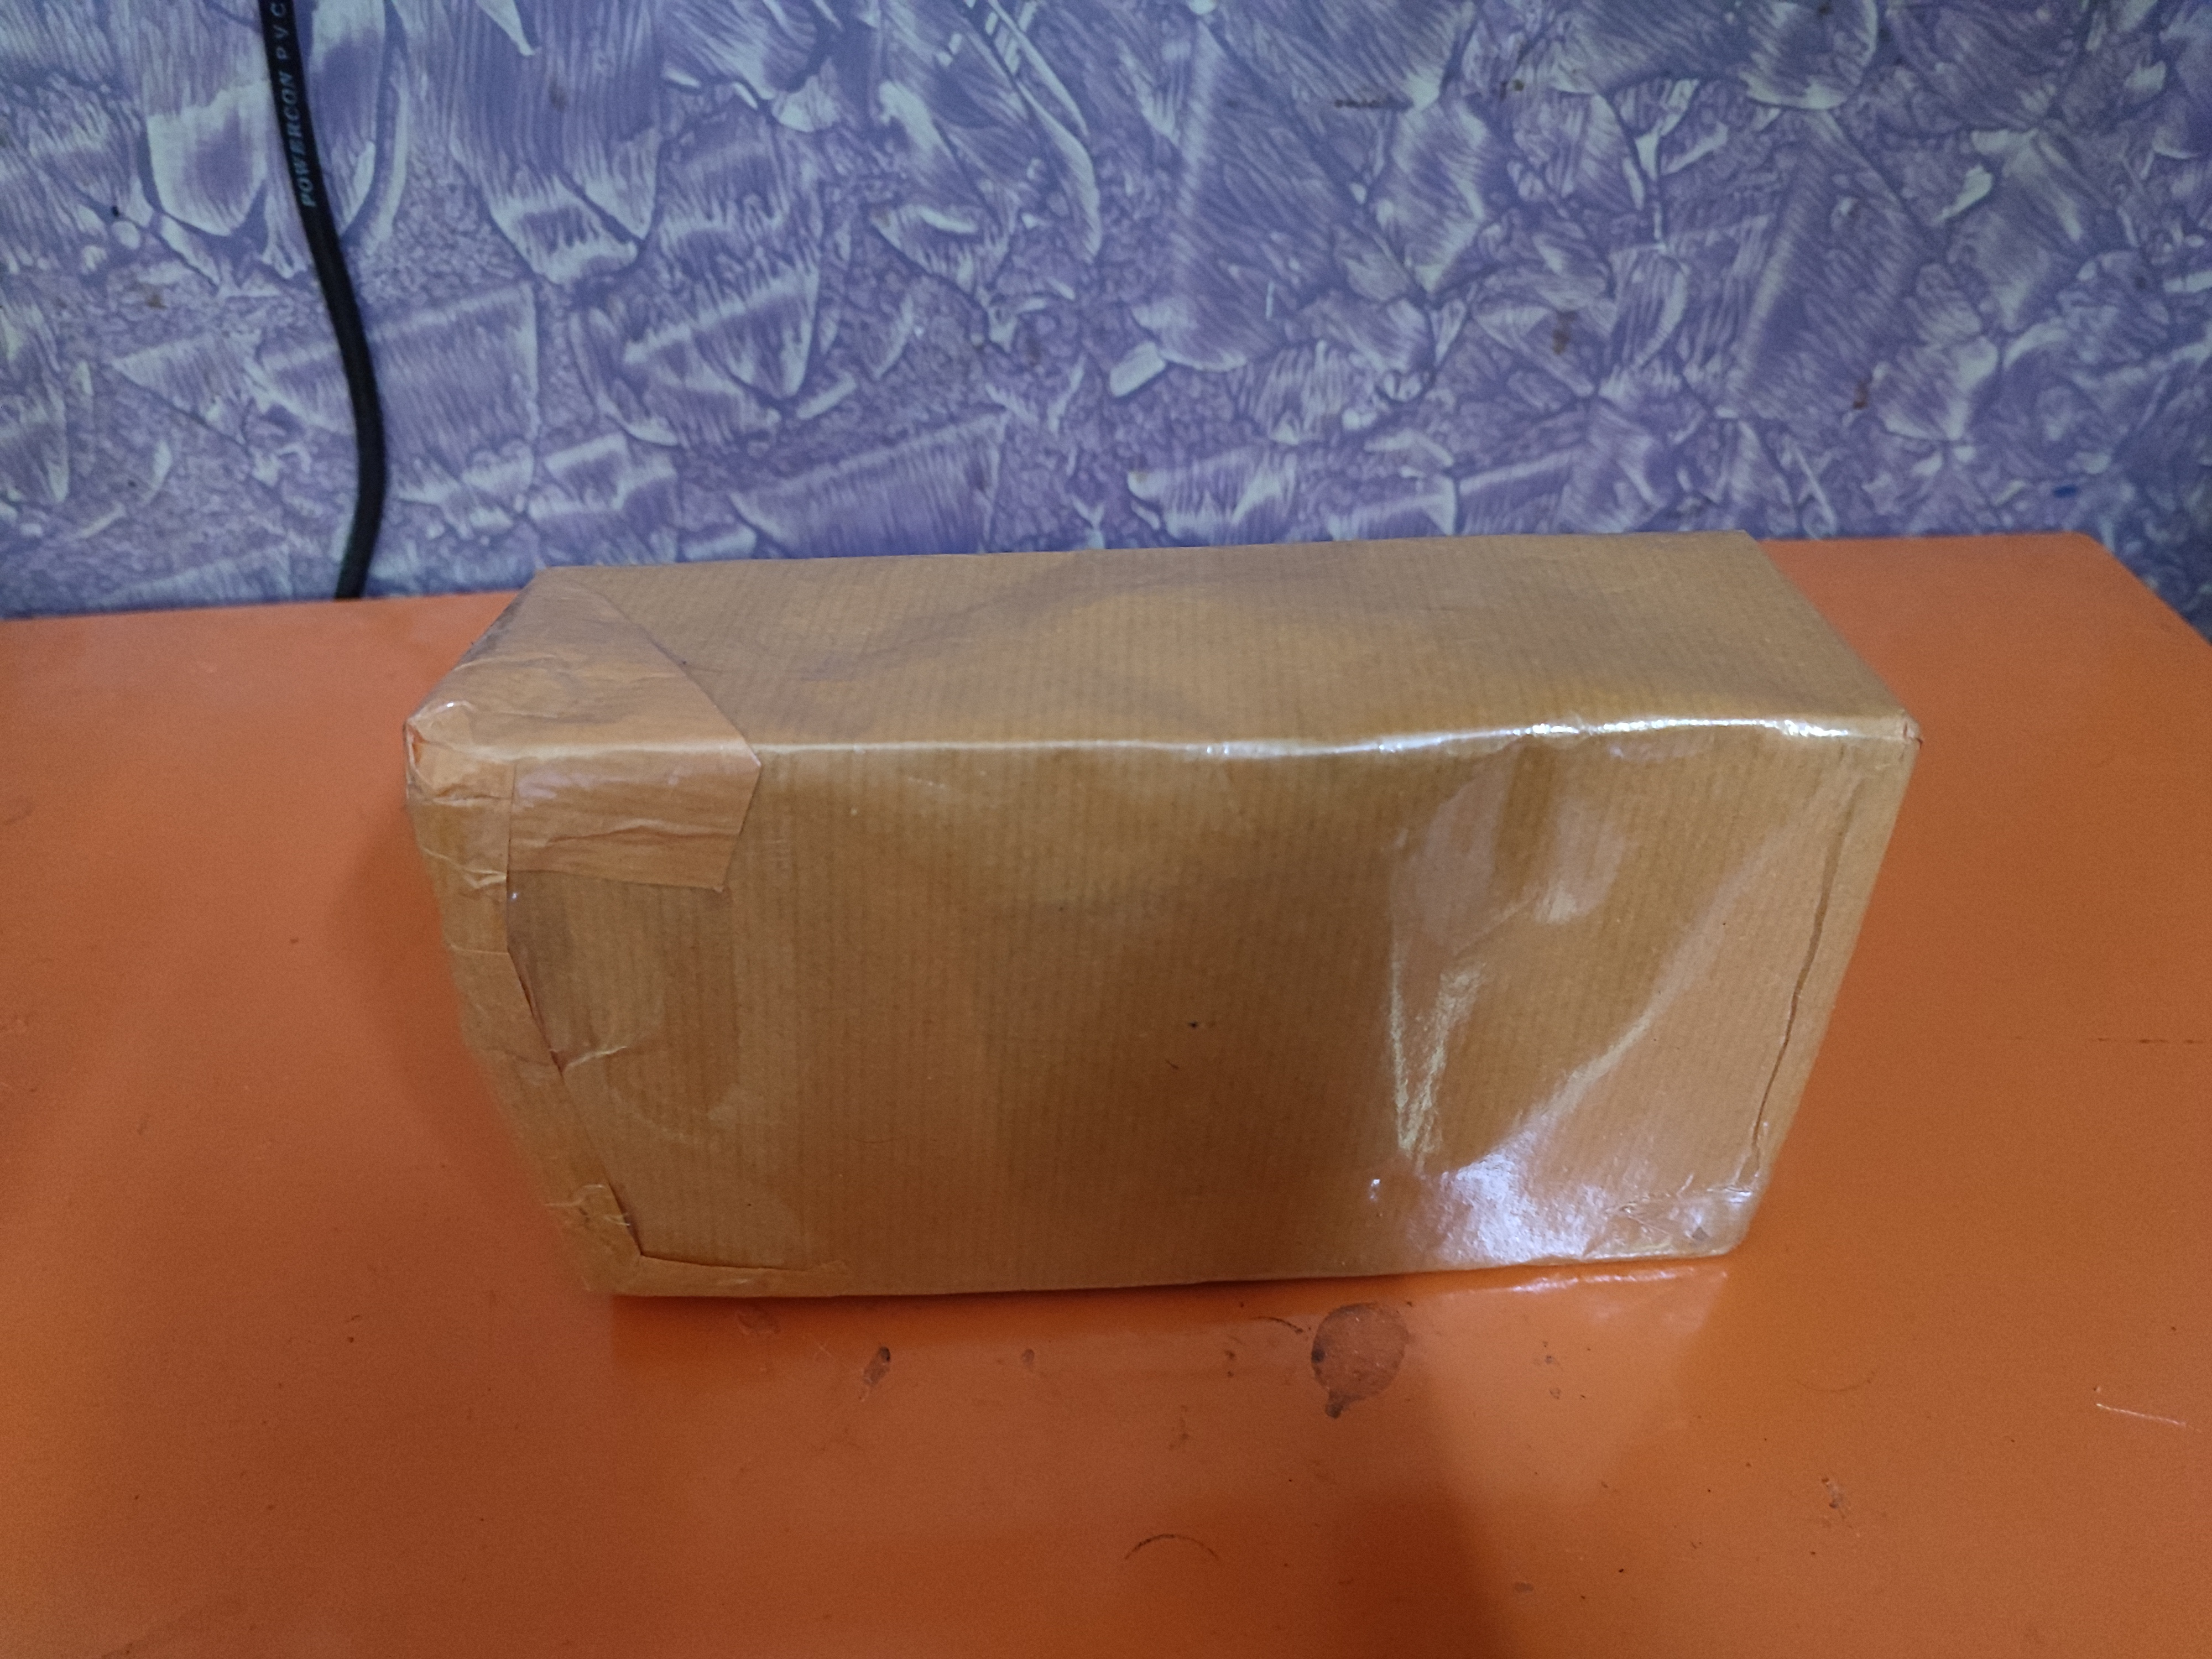Box: (475, 542, 1878, 1338)
